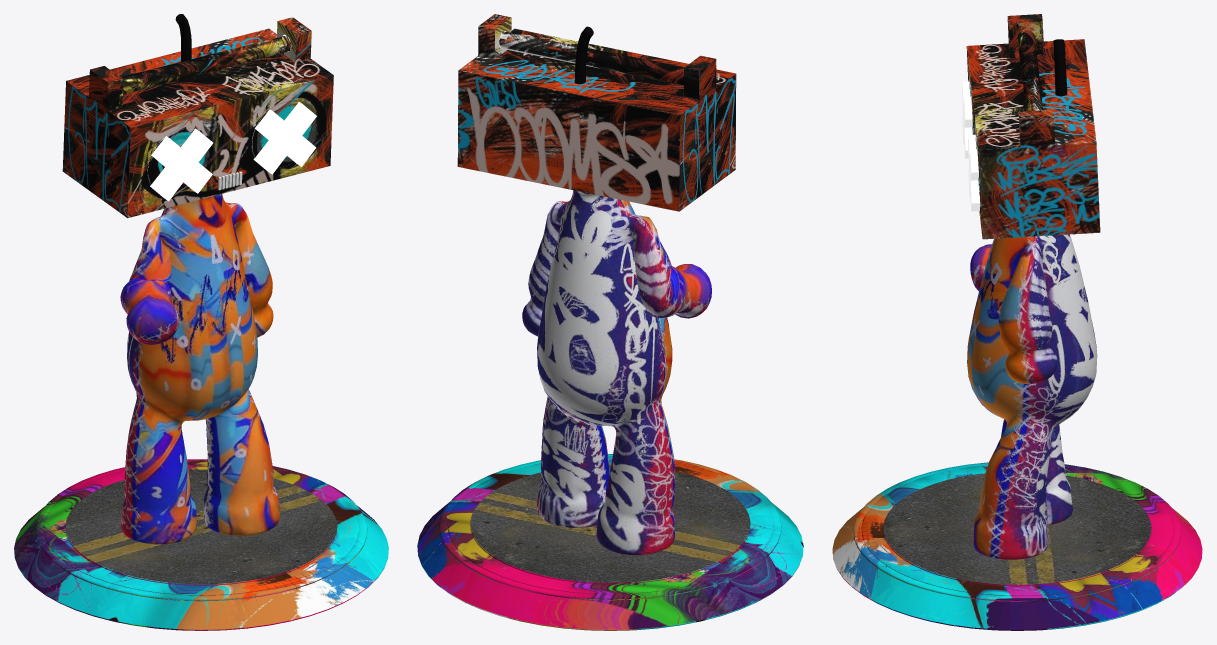
3 renders of one model, left to right at view 1: azimuth 30°, elevation 25°; view 2: azimuth 150°, elevation 25°; view 3: azimuth 270°, elevation 25°, orthographic. The views are drawn at different scales.
Bounding box in the file's own units: 1.45 × 2.22 × 1.45.
Materials: 7 (4 with a texture image).
